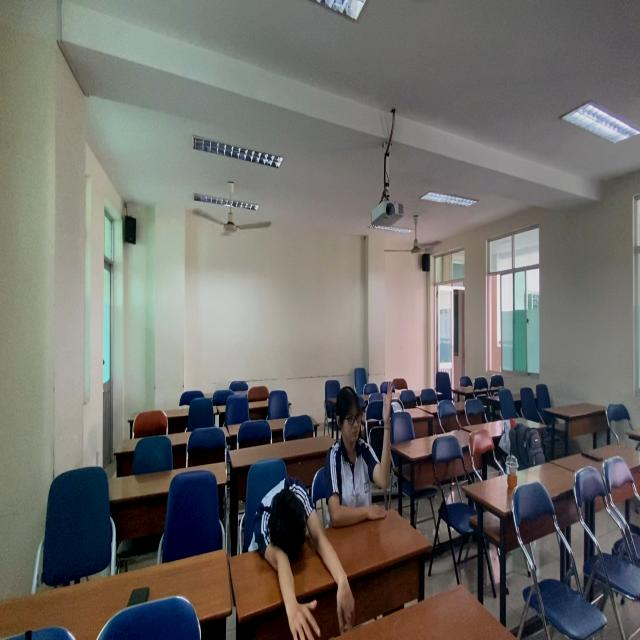raise_hand: (332, 380, 395, 533)
sleep: (238, 469, 381, 640)
